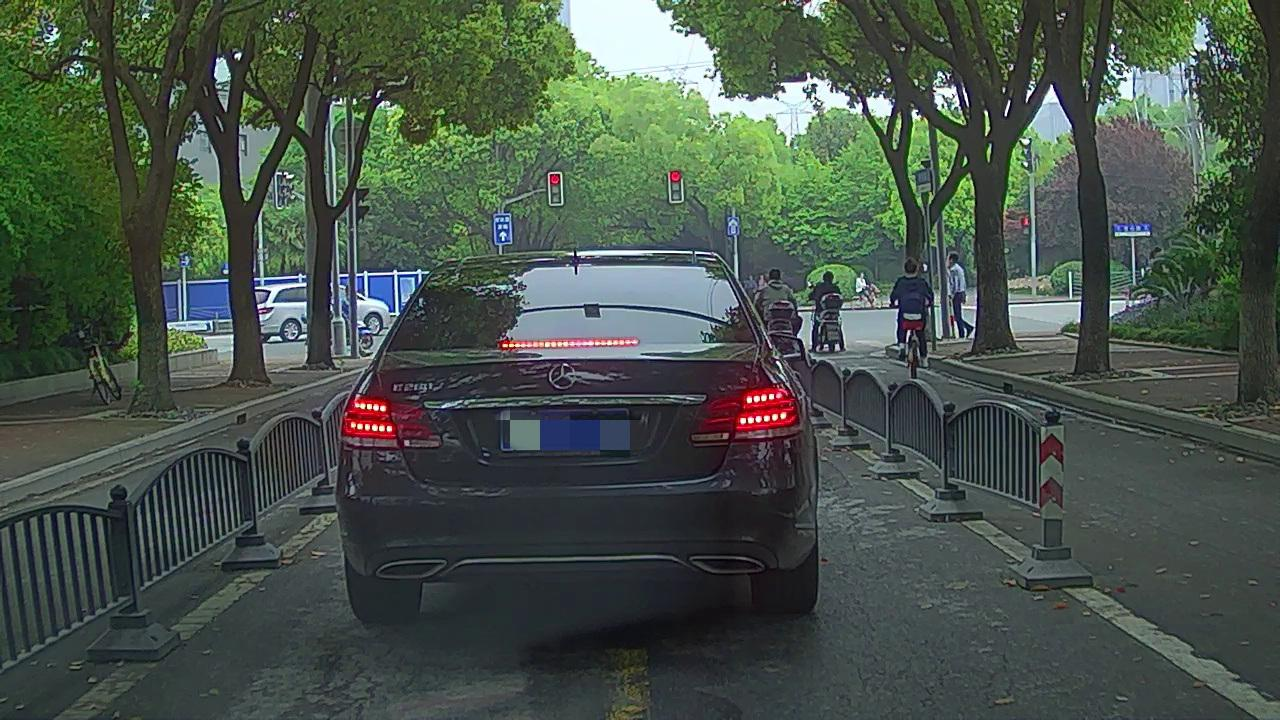traffic_light: (669, 170, 683, 201), (549, 173, 562, 204)
